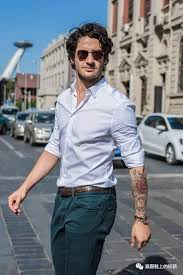F_shirt: (43, 80, 145, 188)
